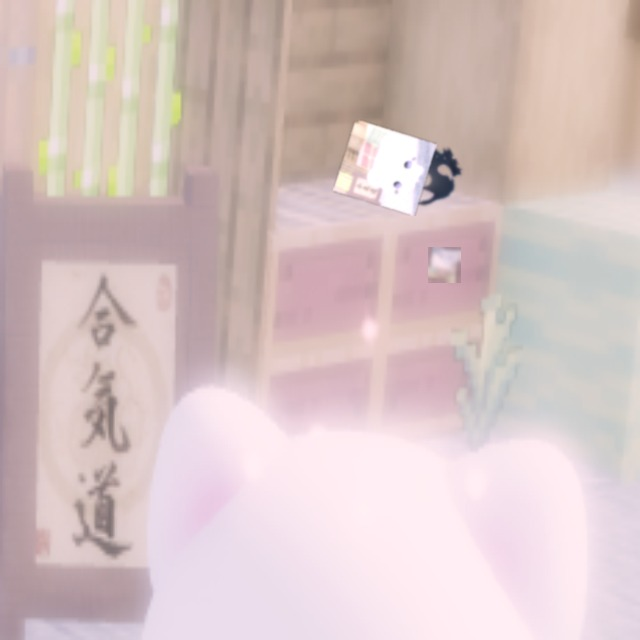urso_branco: (333, 119, 437, 216), (428, 247, 461, 283)
urso_preto: (362, 128, 472, 230)
